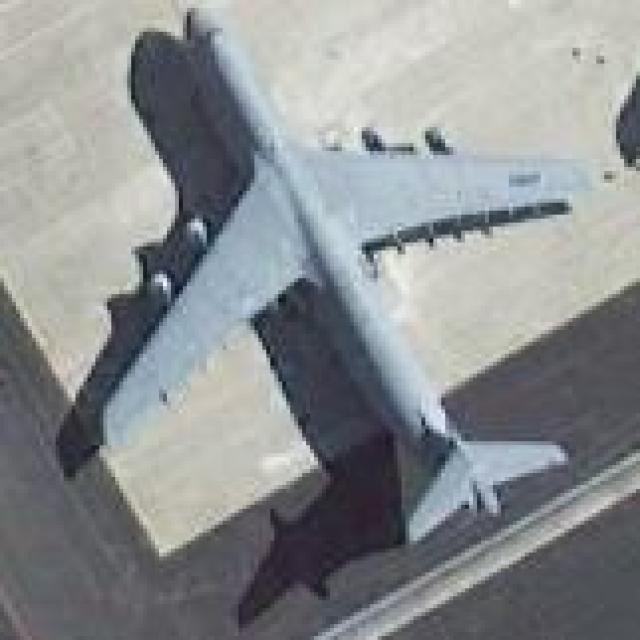C-5_TopDown: (48, 0, 596, 570)
